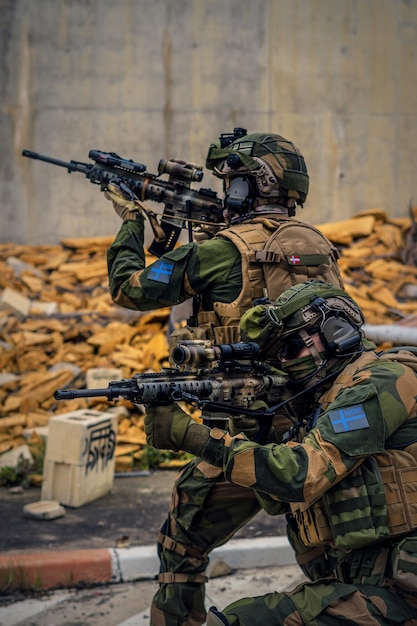gun: (49, 343, 318, 440), (20, 145, 239, 262)
